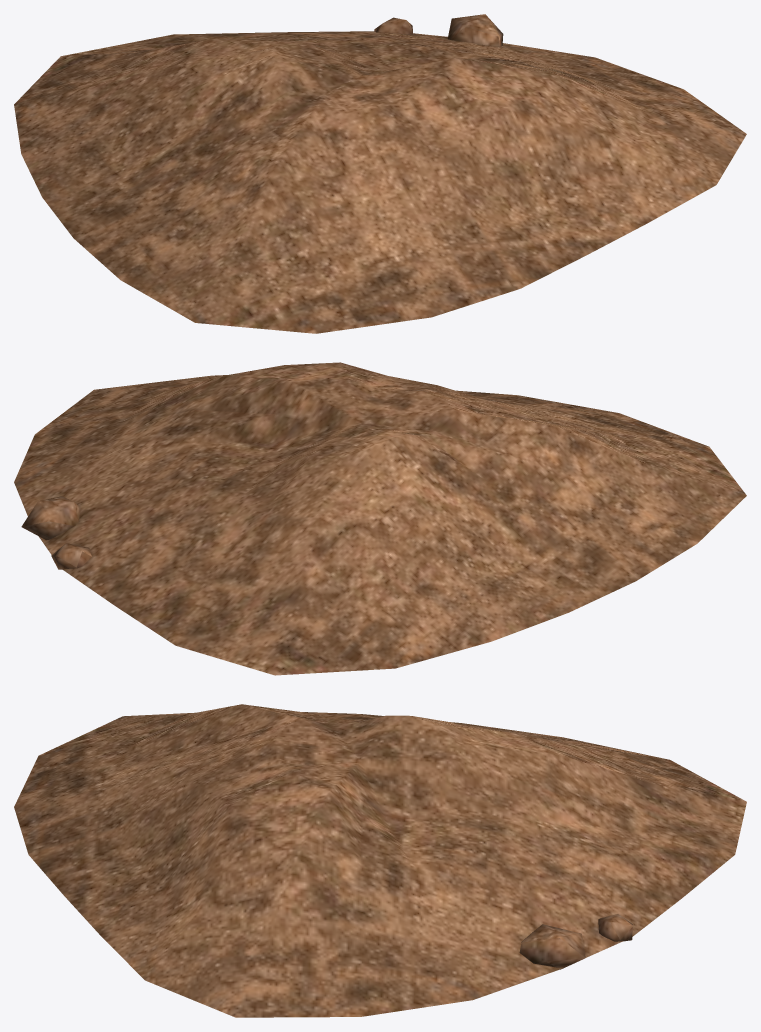
Rendered from b_n_clay_far.glb.
3 views of the same model, one above another, from view 1: azimuth 30°, elevation 25°; view 2: azimuth 150°, elevation 25°; view 3: azimuth 270°, elevation 25° (orthographic). The views are drawn at different scales.
Parts seen in each view (by area): view 1: b_n_clay_far; view 2: b_n_clay_far; view 3: b_n_clay_far.
Part boxes in pixels (x1,y1,x2,y2): b_n_clay_far: (14, 14, 746, 333); b_n_clay_far: (14, 362, 746, 675); b_n_clay_far: (14, 704, 746, 1017).
Bounding box in the file's own units: 1.61 × 0.2732 × 1.62.
1 material, 1 textured.
